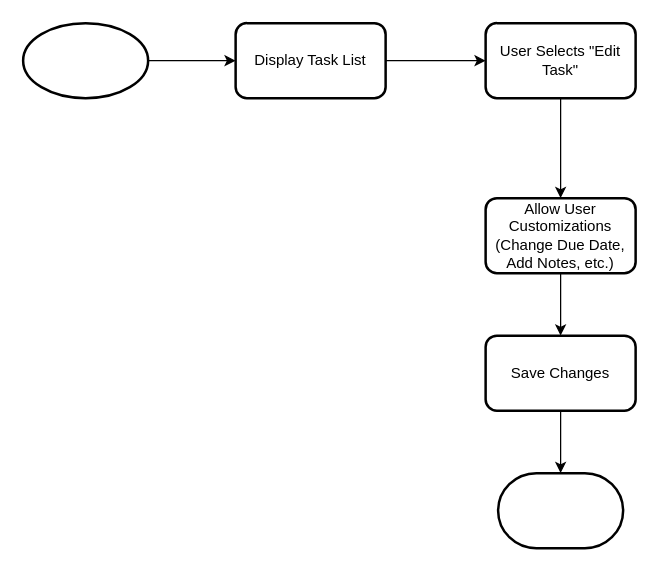
The diagram is 658 pixels wide and 570 high, and some of its shapes have lost their labels. The centre of each missing label's shape, as x and y in pixels:
"End" goes at [560,510].
"Start" goes at [85,60].
